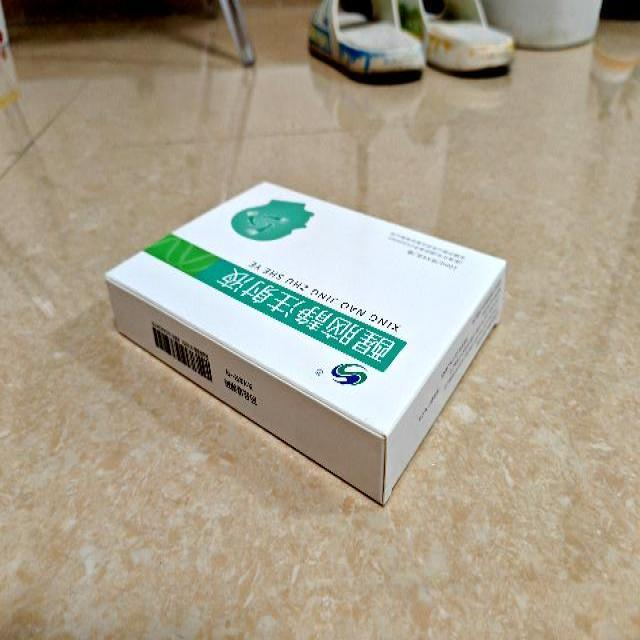box: (104, 181, 508, 504)
